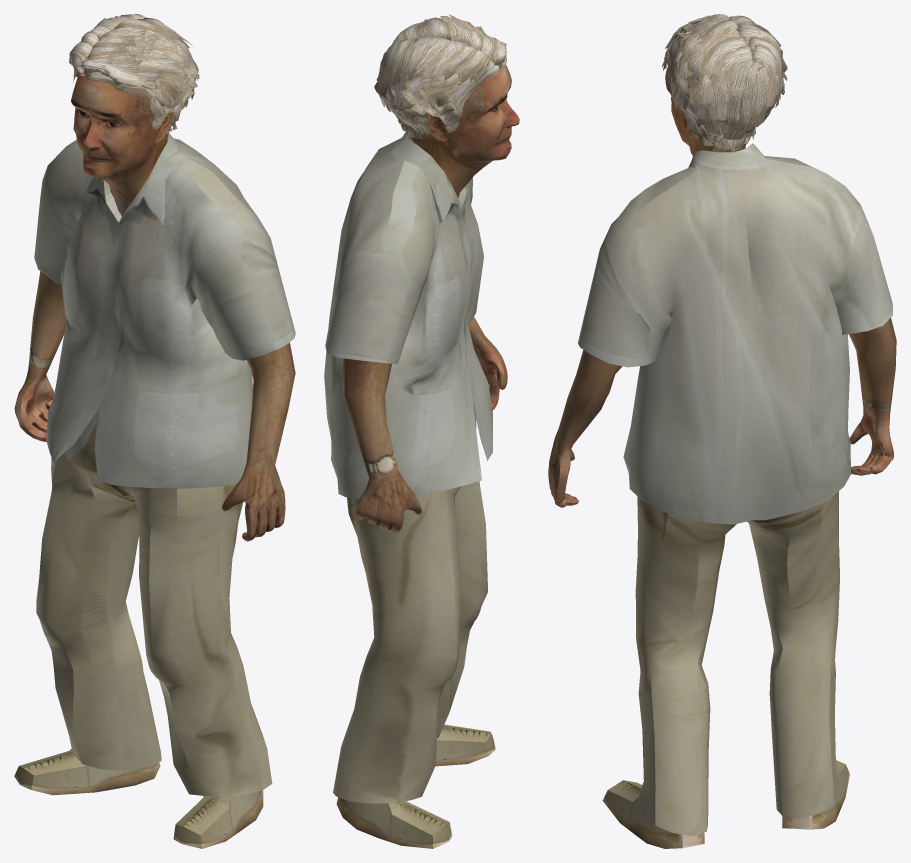
Rendered from laoye.glb.
3 views of the same model, side by side, from view 1: azimuth 30°, elevation 25°; view 2: azimuth 150°, elevation 25°; view 3: azimuth 270°, elevation 25° (orthographic). The views are drawn at different scales.
Visible parts, largest first — view 1: laoye; view 2: laoye; view 3: laoye.
Boxes of the visible parts, x1,y1,x2,y2 form: laoye: (14,14,295,848); laoye: (324,14,519,848); laoye: (548,14,896,848).
Size of the model in its own units: 0.6029 by 2.6 by 1.05.
2 materials, 2 textured.
